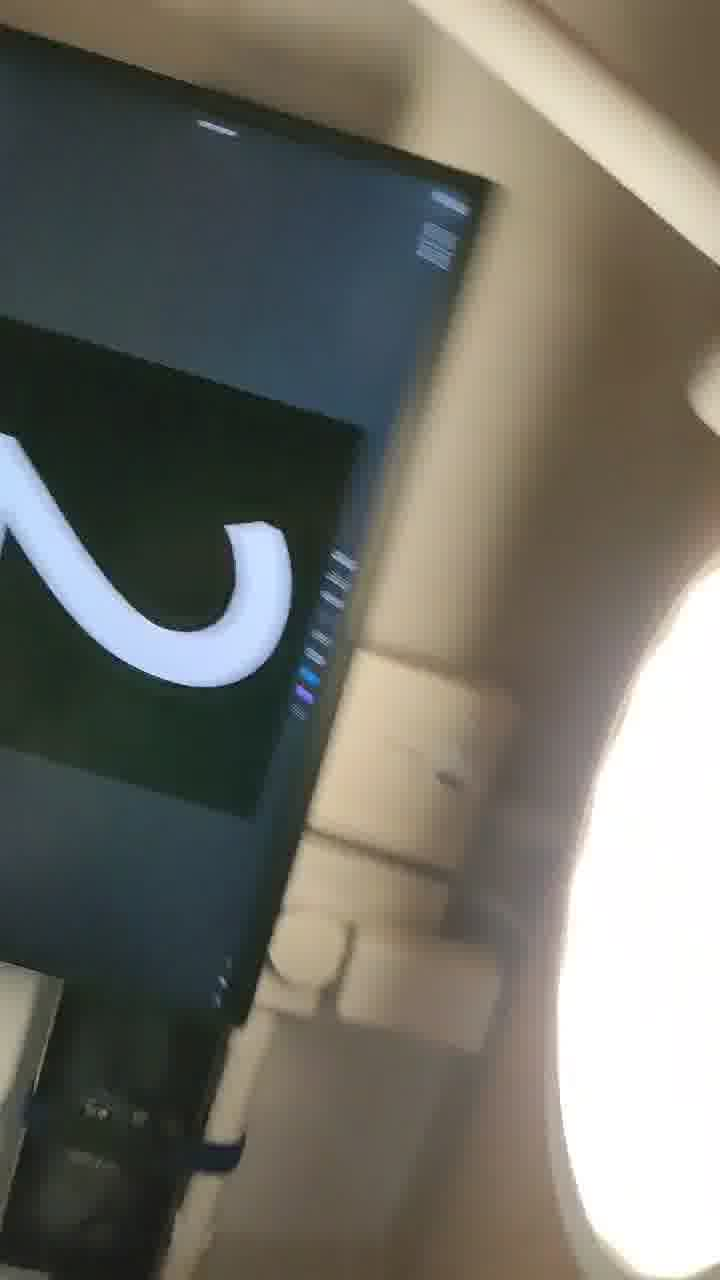two: (1, 283, 341, 813)
